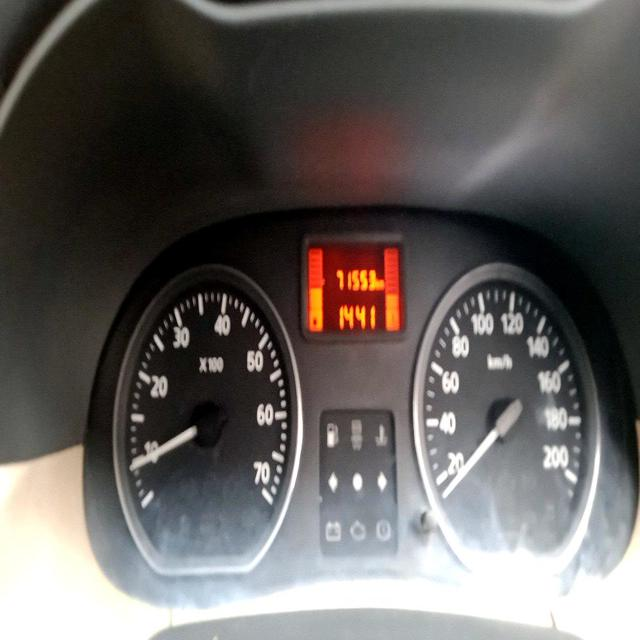odometer: (334, 269, 377, 292)
